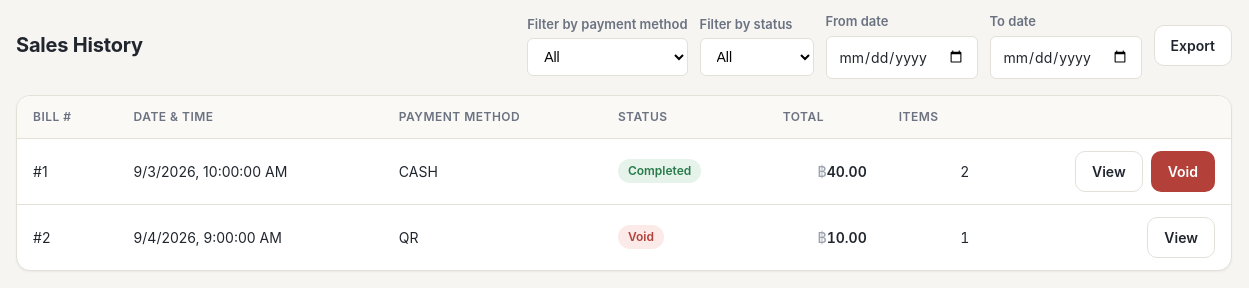
Test: SalesHistoryPage › filters by status
Expected: the text "#1" is shown, top-left (17, 138), bottom-right (118, 204)
Select "Void" in the dropdown labelled "Filter by status" at (756, 57), box top-left (700, 38), bottom-right (814, 76)
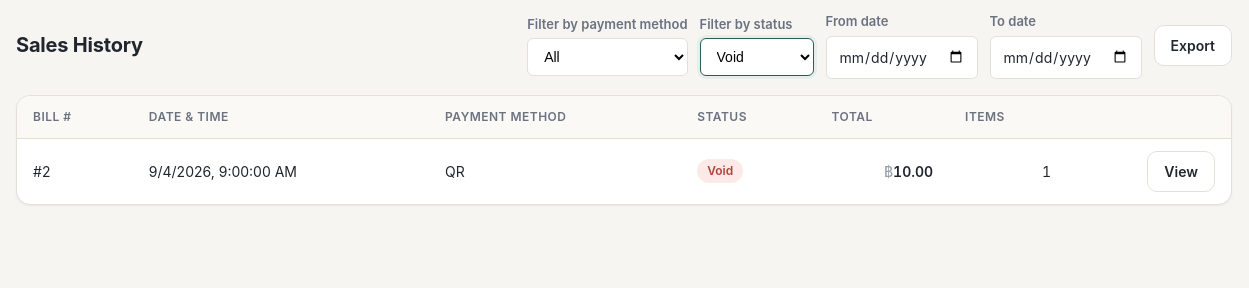
Expected: the text "#2" is shown, top-left (17, 138), bottom-right (133, 204)
Expected: the text "#1" is gone
